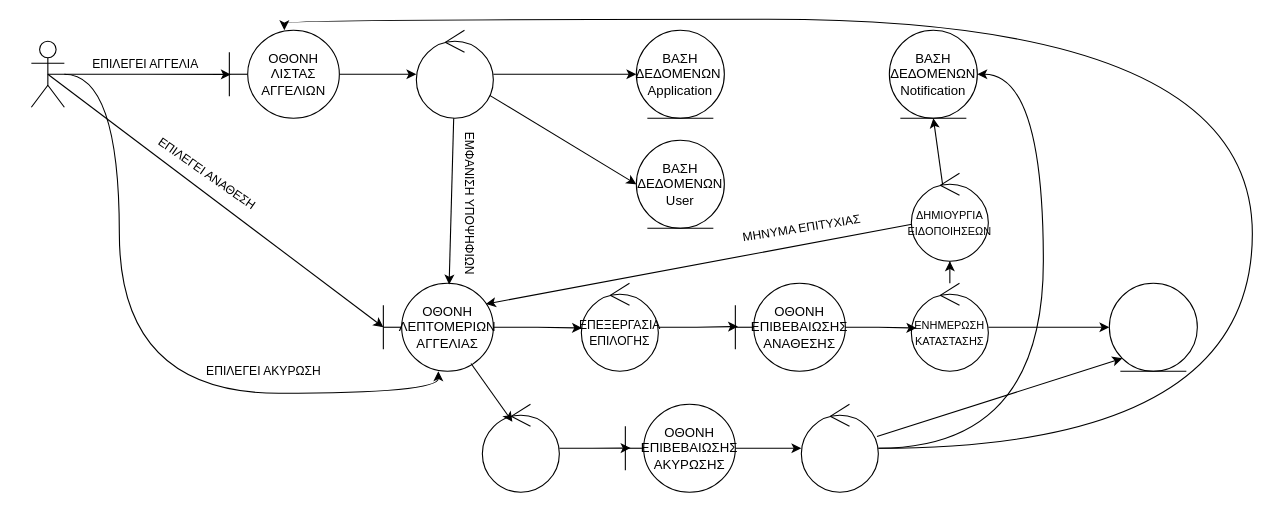
This 1272x512 diagram has some shape labels left out. The shapes that lost their labels are listed below. From the top down, each one's centre as x and y in pixels, then its label:
At point (47, 73): "ΕΤΑΙΡΕΙΑ".
At point (454, 73): "ΑΝΑΚΤΗΣΗ ΔΕΔΟΜΕΝΩΝ".
At point (1152, 326): "ΒΑΣΗ ΔΕΔΟΜΕΝΩΝ Job".
At point (520, 447): "ΕΠΕΞΕΡΓΑΣΙΑ ΑΚΥΡΩΣΗΣ".
At point (839, 447): "ΑΚΥΡΩΣΗ ΚΑΙ ΕΝΗΜΕΡΩΣΗ".
